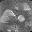people: (4, 9, 15, 17), (0, 16, 10, 23), (17, 15, 25, 22)
